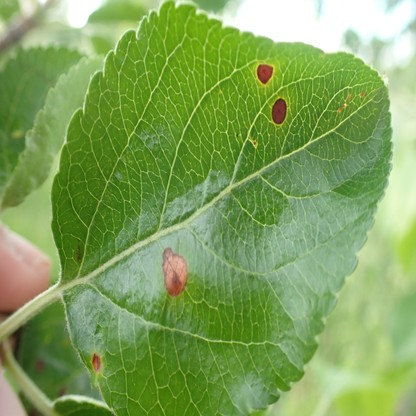frogeye_leaf_spot: (161, 247, 187, 298), (256, 62, 276, 86), (272, 98, 287, 126), (92, 352, 101, 371), (34, 359, 44, 373), (58, 385, 67, 396)
